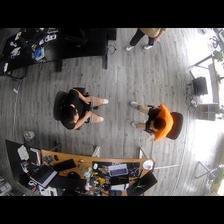normal: (128, 98, 183, 145), (52, 87, 109, 132)
